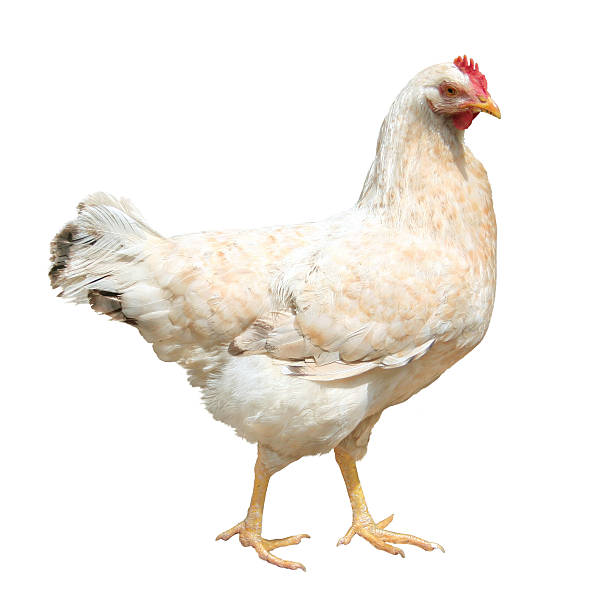chicken: (51, 42, 543, 584)
